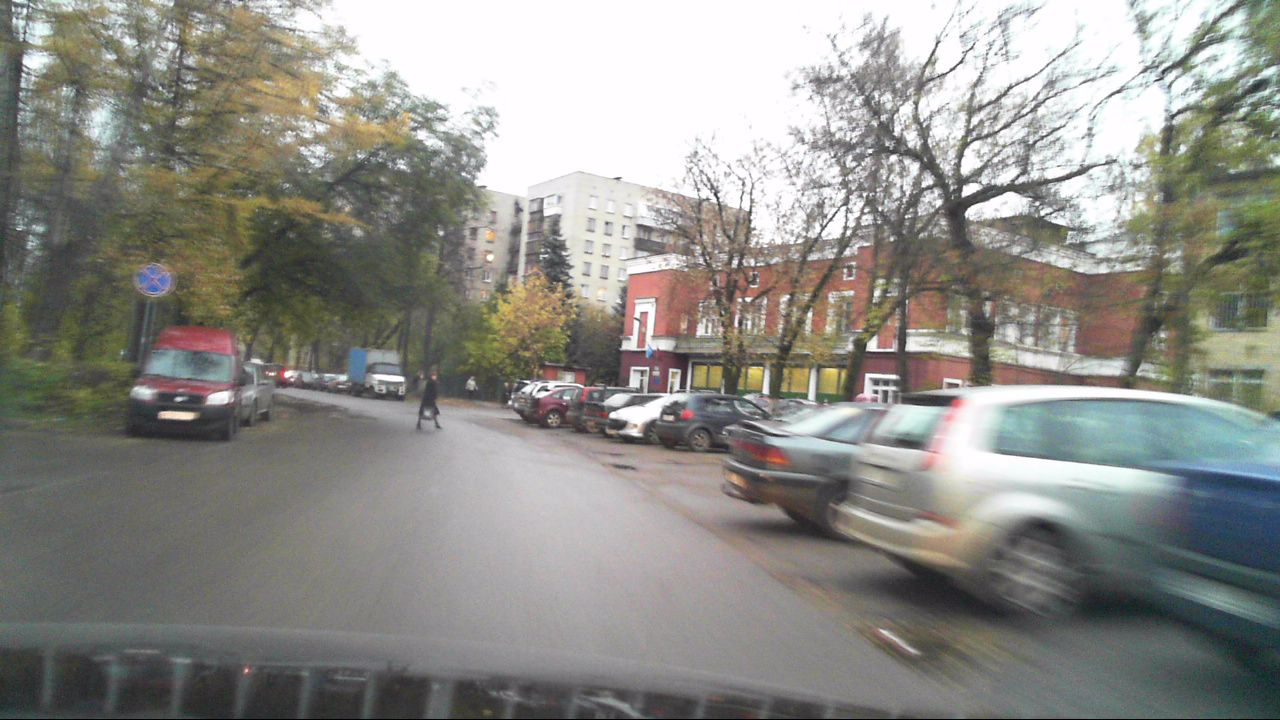No Parking: (134, 262, 170, 297)
